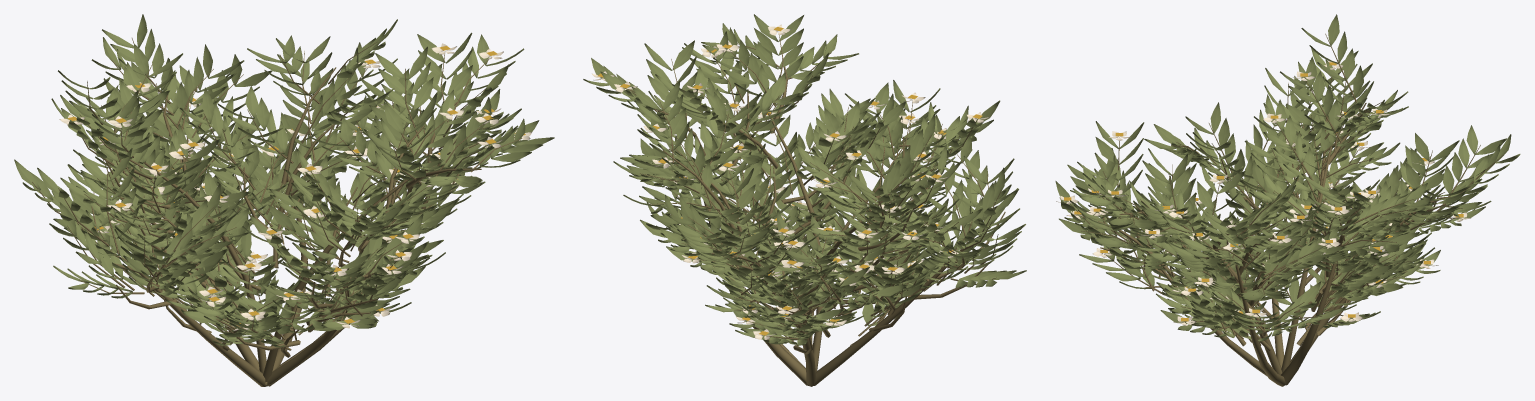
The model's file is Ciste_2_High.fbx.
3 renders of one model, left to right at view 1: azimuth 30°, elevation 25°; view 2: azimuth 150°, elevation 25°; view 3: azimuth 270°, elevation 25°, orthographic. The views are drawn at different scales.
Visible parts, largest first — view 1: Ciste_2_High; view 2: Ciste_2_High; view 3: Ciste_2_High.
Boxes of the visible parts, box(x1,y1,x2,y2) form: Ciste_2_High: box(14, 14, 554, 386); Ciste_2_High: box(583, 14, 1026, 386); Ciste_2_High: box(1055, 14, 1520, 386).
Bounding box in the file's own units: 154 × 103 × 146.
